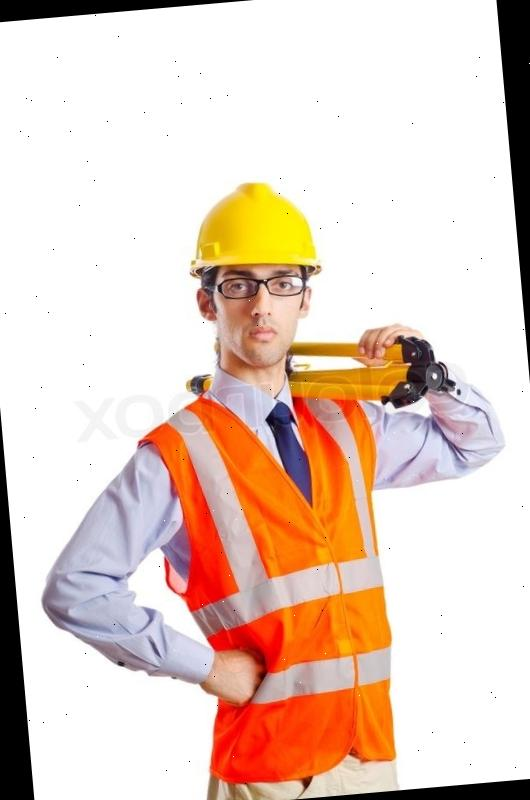helmet: (183, 174, 324, 294)
wear: (168, 382, 402, 770)
